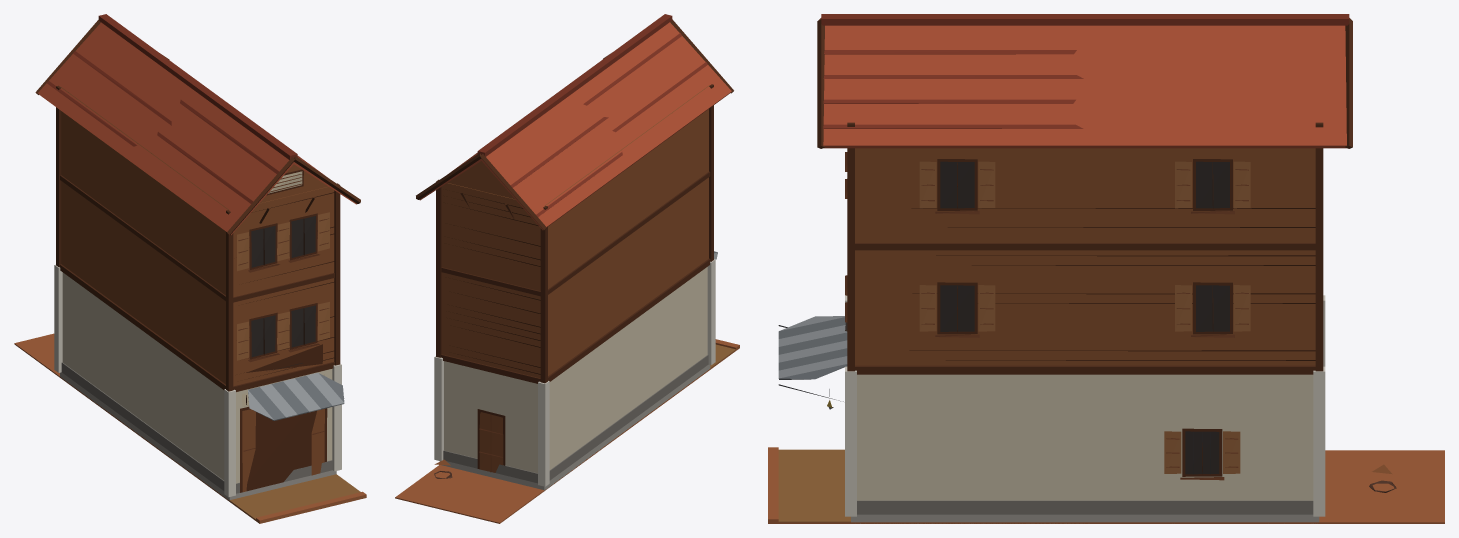
File: bay2_right.glb
3 views of the same model, side by side, from view 1: azimuth 30°, elevation 25°; view 2: azimuth 150°, elevation 25°; view 3: azimuth 270°, elevation 25° (orthographic). The views are drawn at different scales.
Visible parts, largest first — view 1: body, windows; view 2: body; view 3: body, windows.
Part boxes in pixels (box(x1,y1,x2,y2)): body: box(14, 14, 366, 523); windows: box(251, 216, 315, 357); body: box(395, 14, 739, 523); body: box(768, 14, 1444, 523); windows: box(827, 161, 1229, 474).
Size of the model in its own units: 5.02 by 12.22 by 15.9.
